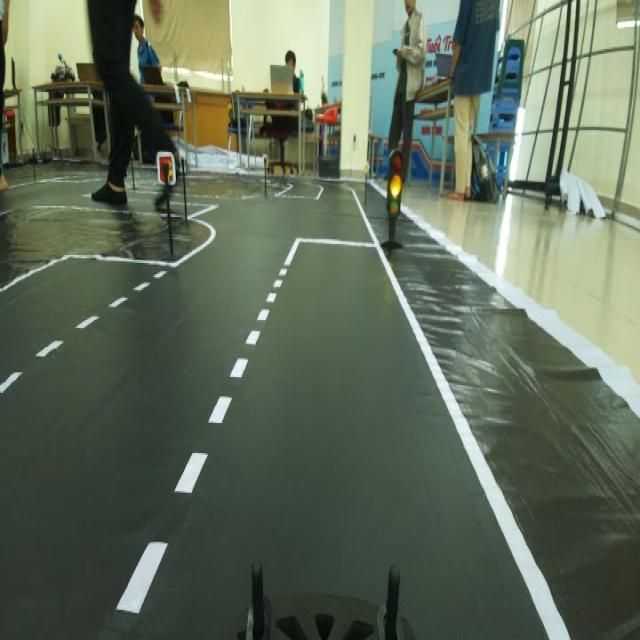trafficlight: (376, 139, 411, 262)
